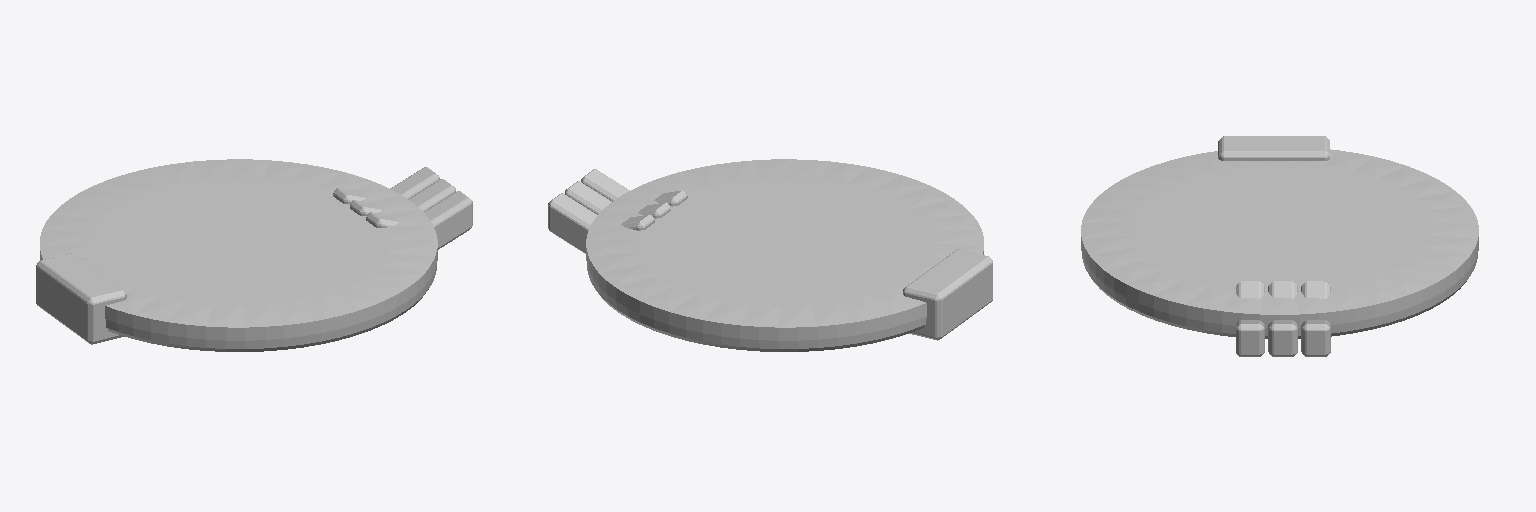
The model's file is room_floor_hatch.obj.
The picture shows the model from 3 angles: view 1: azimuth 30°, elevation 25°; view 2: azimuth 150°, elevation 25°; view 3: azimuth 270°, elevation 25°; orthographic projection.
Bounding box in the file's own units: 40.72 × 5.09 × 35.64.